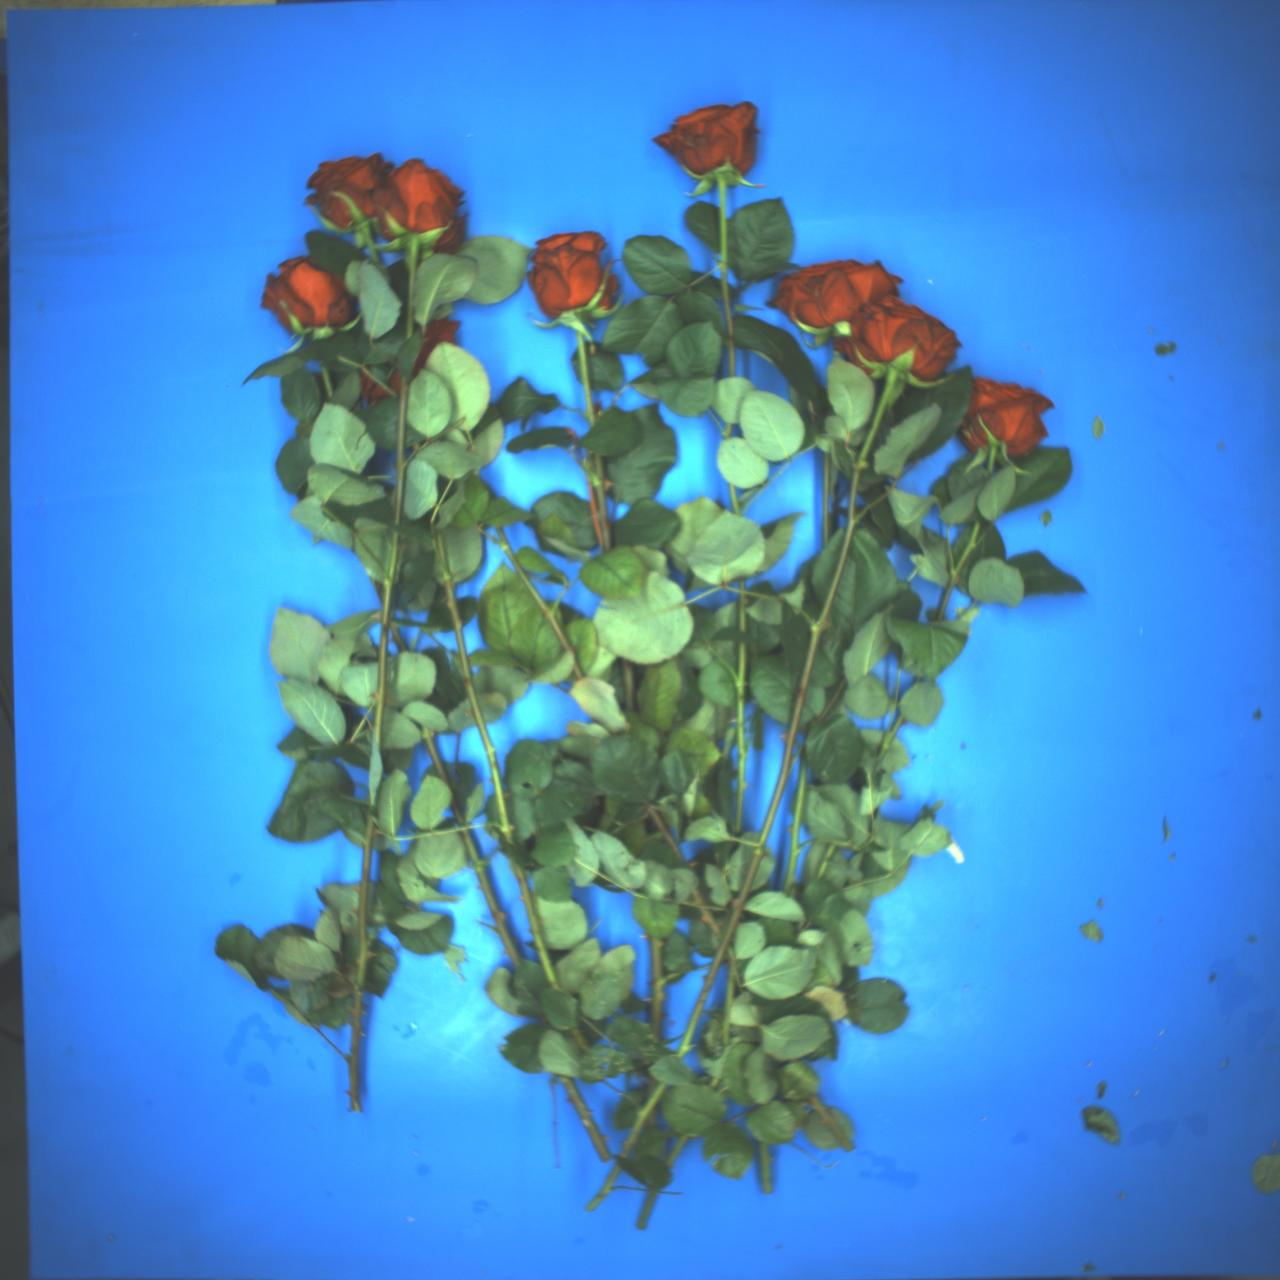Stem: (675, 360, 899, 1068), (428, 533, 517, 843), (491, 524, 573, 654), (459, 829, 524, 969), (348, 816, 375, 1112), (369, 531, 400, 744), (512, 862, 557, 985), (558, 1070, 614, 1162), (934, 520, 982, 621), (730, 645, 751, 832), (618, 1078, 667, 1158), (782, 751, 809, 896), (717, 178, 735, 376), (806, 1094, 856, 1153), (649, 808, 686, 867), (584, 1163, 622, 1216), (576, 338, 598, 428), (395, 380, 408, 525), (593, 454, 612, 551), (421, 726, 450, 785), (689, 890, 724, 938), (647, 938, 663, 1035), (720, 966, 737, 1044), (877, 713, 905, 761), (406, 240, 417, 340), (635, 1186, 659, 1232), (821, 454, 831, 547), (384, 621, 409, 656), (757, 1143, 774, 1194), (445, 796, 470, 826), (665, 1135, 687, 1167), (622, 661, 635, 713), (362, 227, 380, 264), (817, 845, 835, 878), (728, 483, 742, 518), (321, 367, 334, 400), (738, 581, 747, 633), (986, 445, 998, 474), (570, 662, 585, 680), (724, 423, 733, 441), (709, 1076, 720, 1088), (913, 675, 921, 686), (414, 444, 422, 454), (833, 350, 840, 356)
flower: (830, 282, 967, 395), (763, 243, 906, 341), (248, 244, 367, 355), (369, 150, 477, 252), (519, 225, 622, 325), (298, 136, 395, 240), (954, 374, 1055, 465), (652, 101, 762, 183), (410, 312, 463, 388)
